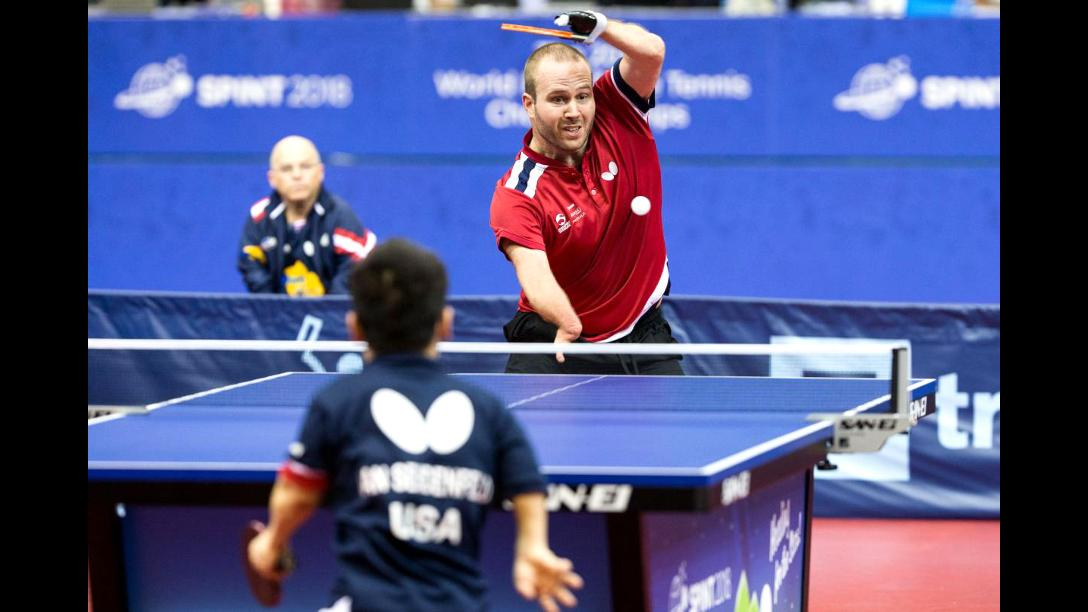Table-Tennis-Ball: (632, 197, 650, 216)
